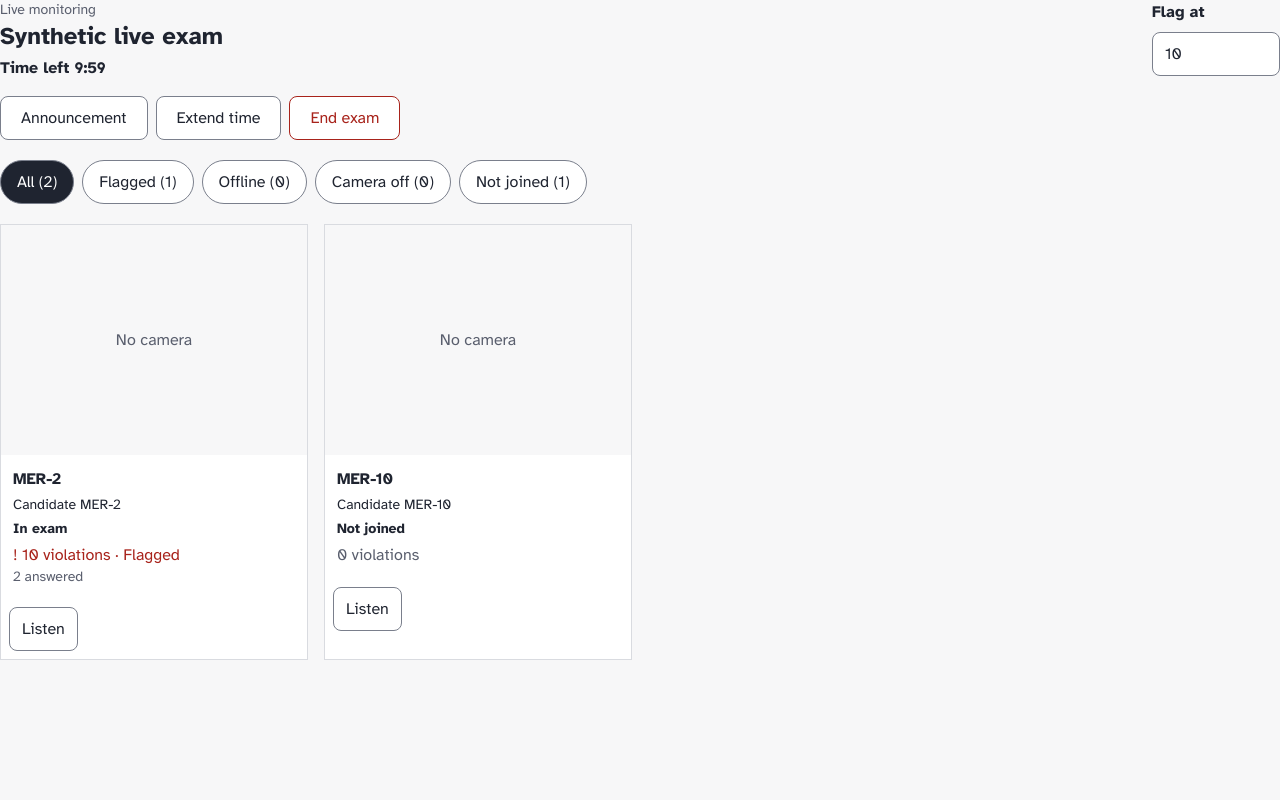
Test case: LiveGrid › keeps the previous timeline and clears loading when an event reload rejects
Click the button "MER-2 Candidate MER-2": (154, 412) top-left (1, 225), bottom-right (307, 598)
(page scrolled)
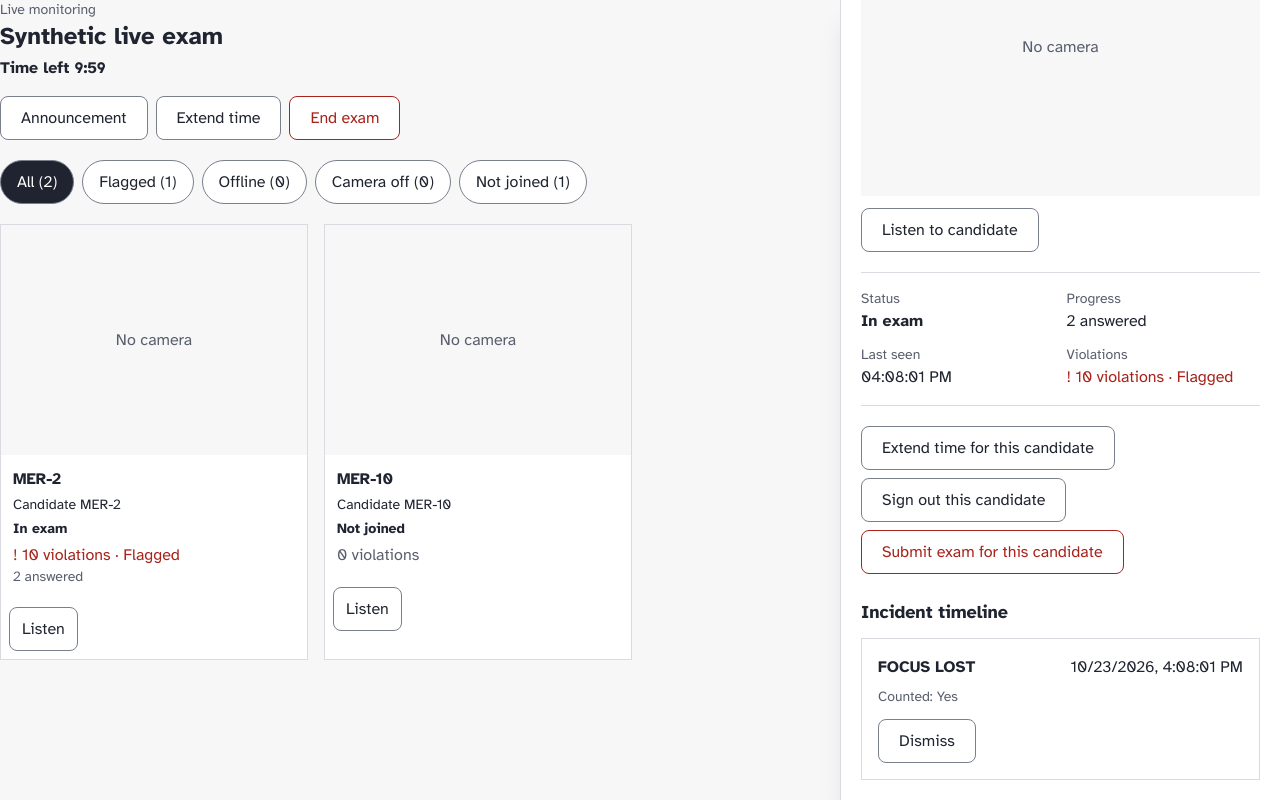
Check: the text "FOCUS LOST" is shown, box top-left (878, 655), bottom-right (975, 679)
